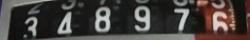digits: (56, 0, 77, 36), (23, 3, 44, 39), (132, 5, 151, 32), (211, 10, 230, 36), (93, 6, 111, 32), (173, 8, 190, 30)
